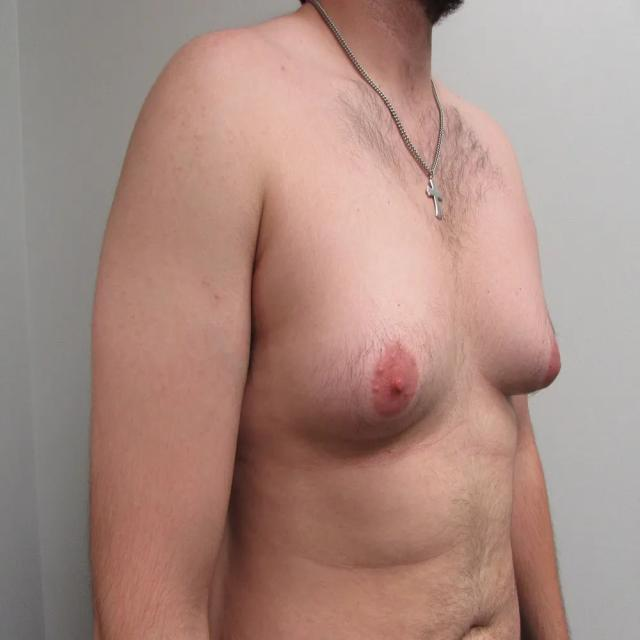Seno ileso: (255, 240, 464, 472), (468, 207, 567, 406)
